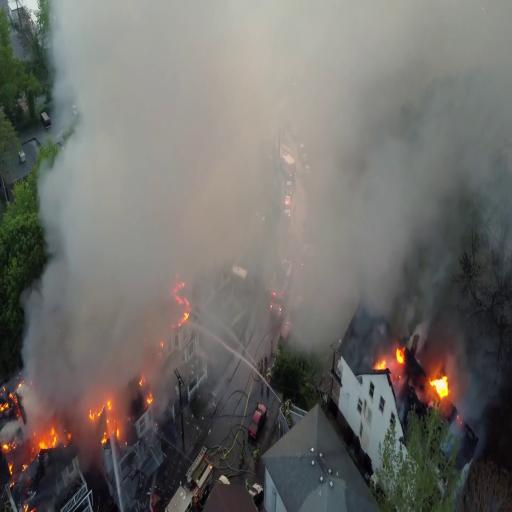fire: (98, 400, 122, 444), (35, 419, 57, 454), (429, 371, 451, 405)
smoke: (382, 223, 431, 326)
